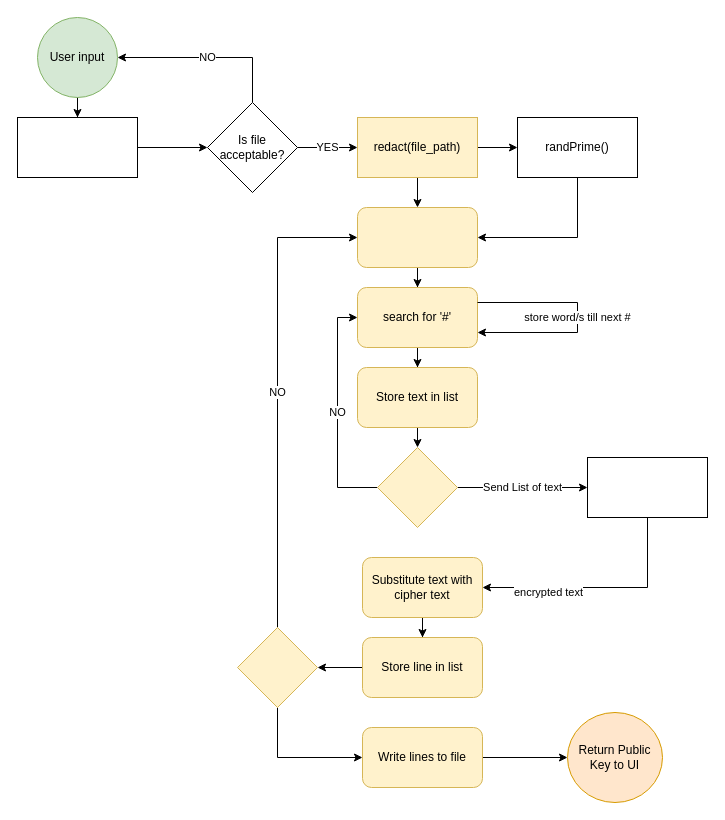
Image size: 725x820. Some labels were removed from this diagram. The shapes that lost their labels are listed below. From the top down, each one's centre as x and y in pixels, then its label:
the point at 77,147: redactFile()
the point at 417,237: Take one line of file
the point at 417,487: Is last word?
the point at 647,487: crypt(public_key, text)
the point at 277,667: Is last line?
